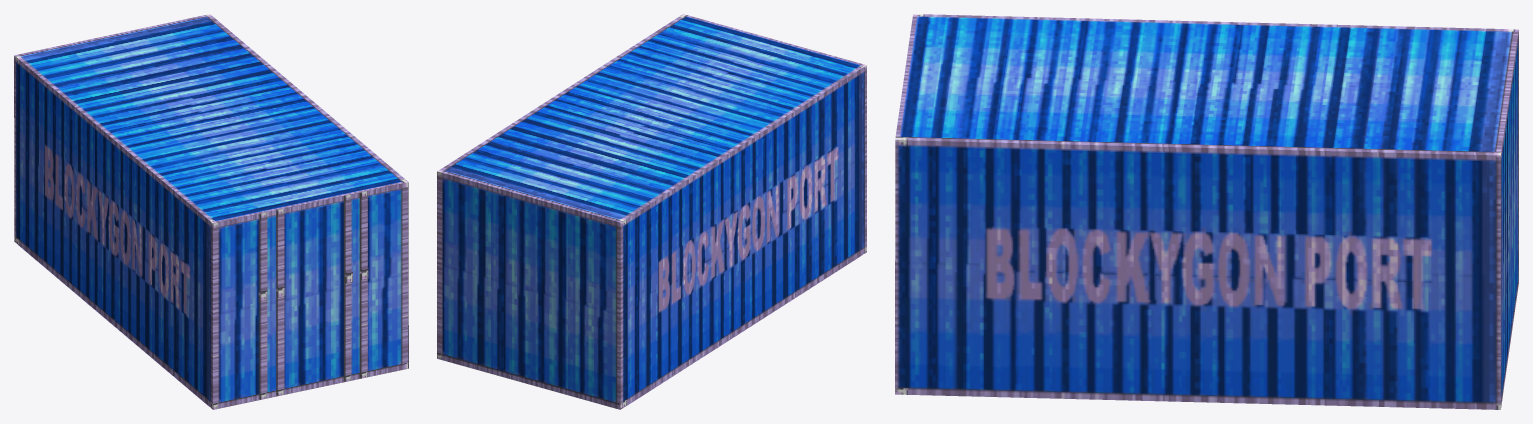
Rendered from BLOCKYGON_BLUE CONTAINER(CLOSED) .fbx.
The picture shows the model from 3 angles, left to right: view 1: azimuth 30°, elevation 25°; view 2: azimuth 150°, elevation 25°; view 3: azimuth 270°, elevation 25°; orthographic projection. The views are drawn at different scales.
Parts seen in each view (by area): view 1: BLOCKYGON_BLUE_CONTAINER_CLOSED__; view 2: BLOCKYGON_BLUE_CONTAINER_CLOSED__; view 3: BLOCKYGON_BLUE_CONTAINER_CLOSED__.
Boxes of the visible parts, left/top/right/bottom form: BLOCKYGON_BLUE_CONTAINER_CLOSED__: left=14, top=14, right=408, bottom=409; BLOCKYGON_BLUE_CONTAINER_CLOSED__: left=437, top=14, right=866, bottom=409; BLOCKYGON_BLUE_CONTAINER_CLOSED__: left=895, top=14, right=1518, bottom=409.
Bounding box in the file's own units: 243 × 204 × 453.
